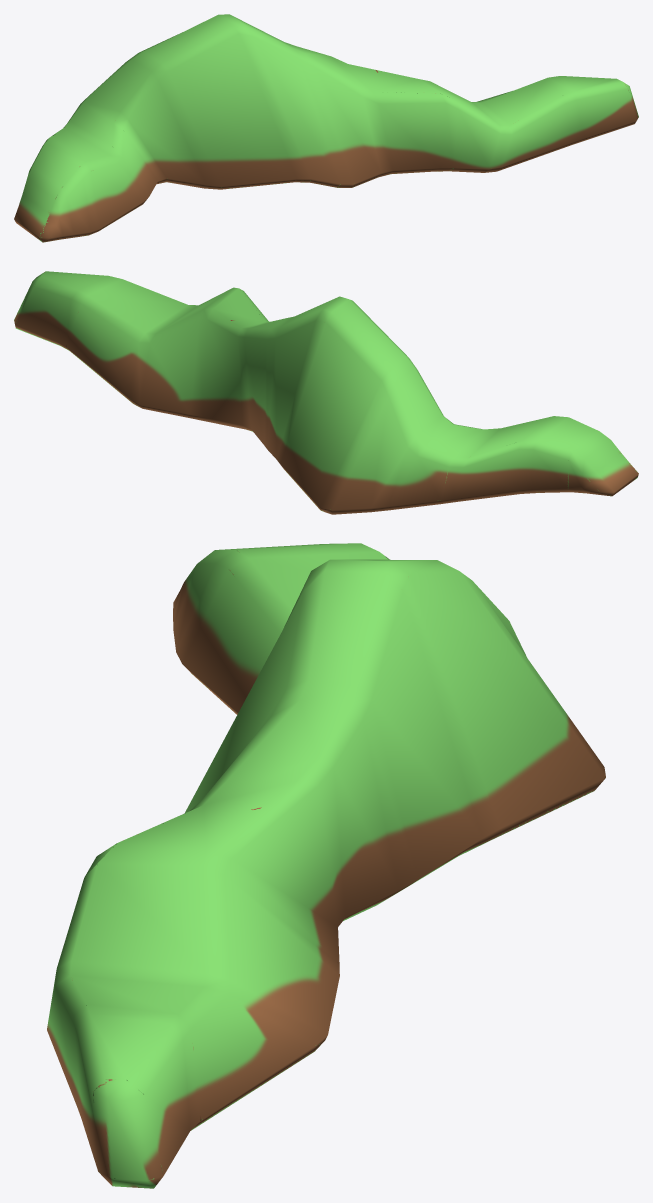
File: Morro2.fbx
The picture shows the model from 3 angles, top to bottom: view 1: azimuth 30°, elevation 25°; view 2: azimuth 150°, elevation 25°; view 3: azimuth 270°, elevation 25°; orthographic projection. The views are drawn at different scales.
Parts seen in each view (by area): view 1: Cube; view 2: Cube; view 3: Cube.
Boxes of the visible parts, x1,y1,x2,y2 form: Cube: (14,14,638,242); Cube: (14,271,638,514); Cube: (47,543,605,1188).
Bounding box in the file's own units: 60909 × 14739 × 25279.
1 material, 1 textured.
